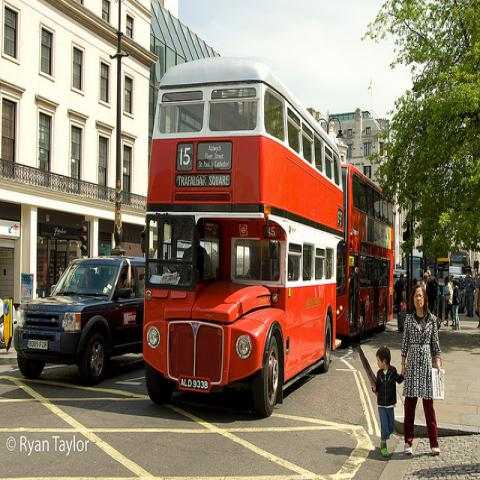bus: (142, 61, 349, 416), (347, 162, 394, 346), (412, 247, 468, 282)
truck: (13, 253, 146, 382)
